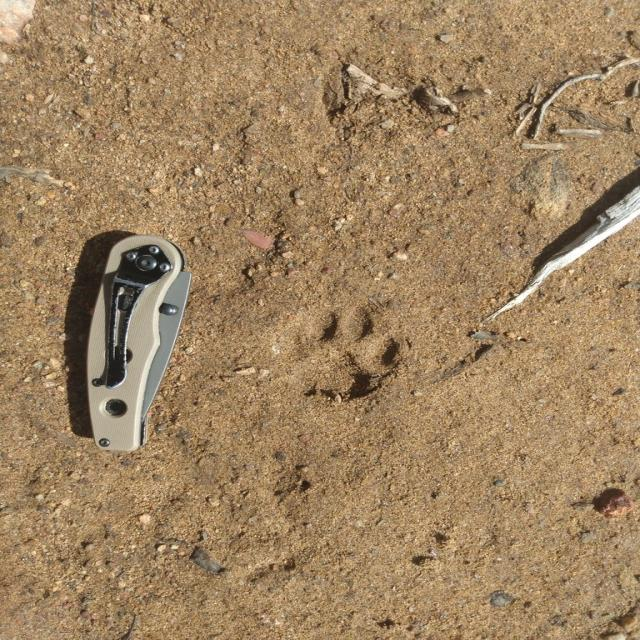felid: (288, 301, 402, 394)
